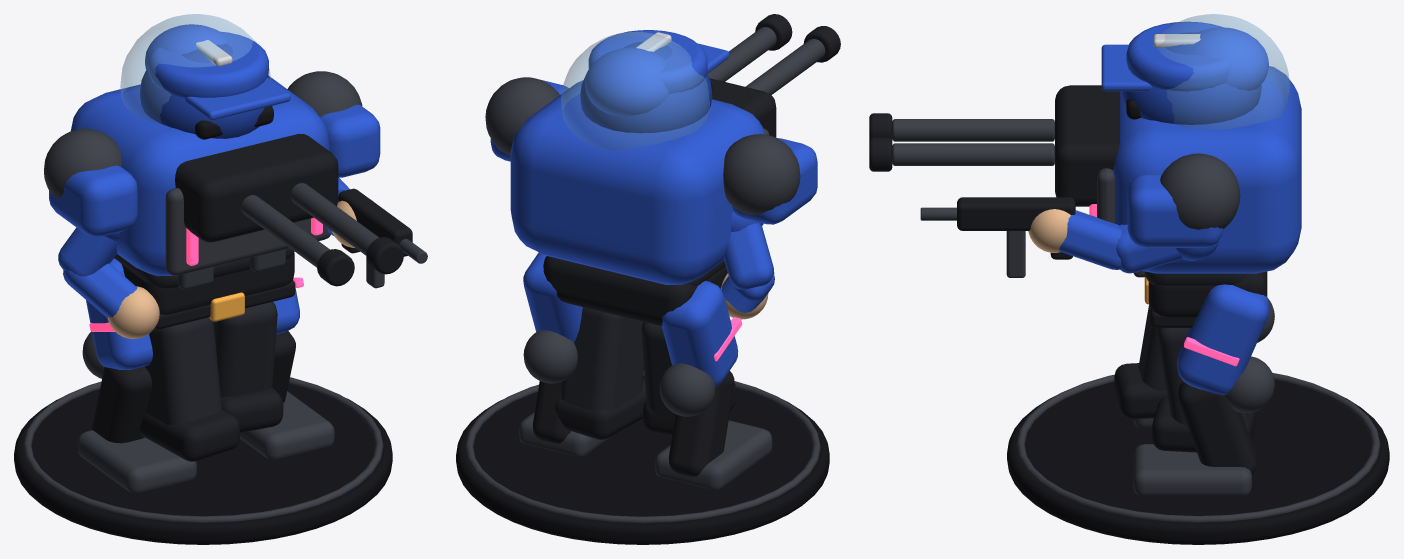
File: vagt.glb
3 renders of one model, left to right at view 1: azimuth 30°, elevation 25°; view 2: azimuth 150°, elevation 25°; view 3: azimuth 270°, elevation 25°, orthographic. The views are drawn at different scales.
Visible parts, largest first — view 1: fod_net, op4.002_net, vaaben5_net, skuldre5_net, benV5_net, benV_net, hoved5_net, ned2_net, benH_net, skuldre_net, benH5_net, op2_net (+5 smaller); view 2: op4.002_net, fod_net, benV5_net, hoved5_net, skuldre5_net, benH_net, benH5_net, vaaben5_net, skuldre_net, op2_net, ned2_net, benV_net; view 3: fod_net, op4.002_net, benH5_net, vaaben5_net, hoved5_net, skuldre5_net, ned2_net, skuldre_net, op2_net, op3_net, benH_net, benV_net (+1 smaller).
Boxes of the visible parts, x1,y1,x2,y2 form: fod_net: (14,377,392,544); op4.002_net: (70,76,330,314); vaaben5_net: (175,134,403,286); skuldre5_net: (44,71,380,236); benV5_net: (78,258,196,493); benV_net: (139,317,239,461); hoved5_net: (120,14,270,123); ned2_net: (148,31,290,120); benH_net: (213,301,283,432); skuldre_net: (58,177,373,338); benH5_net: (240,277,334,459); op2_net: (140,40,272,138); op4.002_net: (510,80,769,325); fod_net: (456,371,829,544); benV5_net: (655,280,772,489); hoved5_net: (561,31,709,150); skuldre5_net: (485,77,817,224); benH_net: (555,307,646,439); benH5_net: (519,252,613,456); vaaben5_net: (707,14,840,137); skuldre_net: (721,211,774,319); op2_net: (580,32,712,133); ned2_net: (588,30,729,93); benV_net: (641,322,736,435); fod_net: (1007,373,1389,544); op4.002_net: (1089,66,1301,317); benH5_net: (1133,284,1274,495); vaaben5_net: (869,85,1119,206); hoved5_net: (1157,14,1289,129); skuldre5_net: (1127,153,1240,247); ned2_net: (1101,21,1231,91); skuldre_net: (1028,209,1219,273); op2_net: (1122,32,1261,124); op3_net: (920,197,1075,277); benH_net: (1152,328,1255,452); benV_net: (1114,304,1167,419).
Bounding box in the file's own units: 2 × 2.57 × 2.72.
